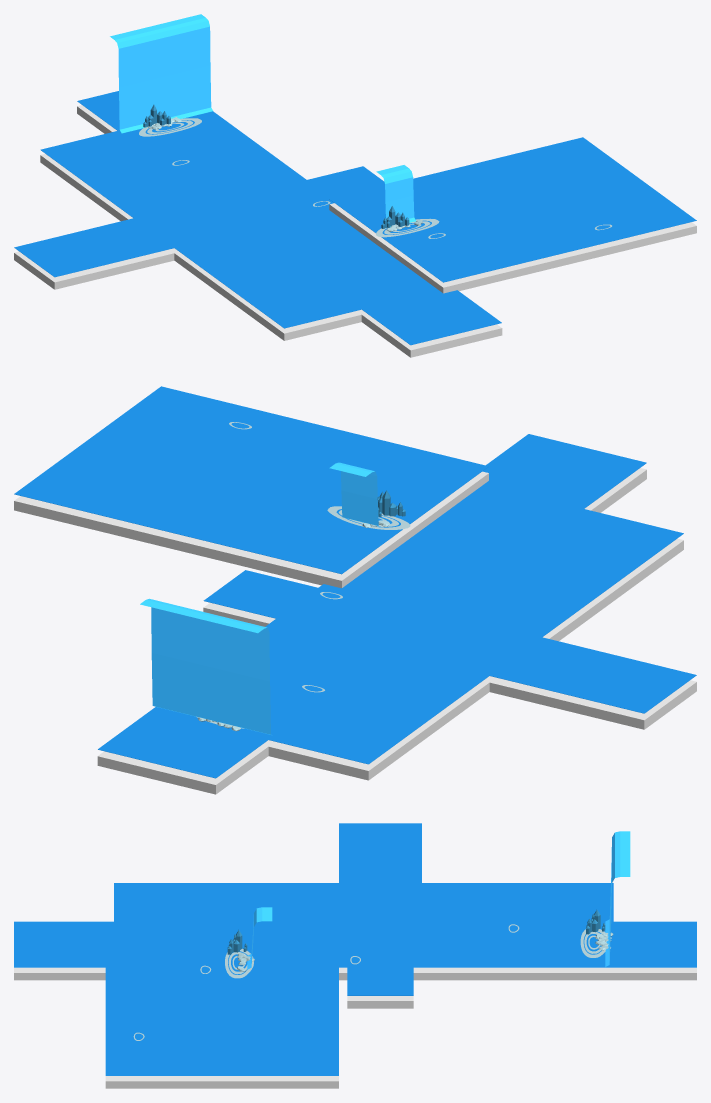
The model's file is water.glb.
The picture shows the model from 3 angles, top to bottom: view 1: azimuth 30°, elevation 25°; view 2: azimuth 150°, elevation 25°; view 3: azimuth 270°, elevation 25°; orthographic projection. The views are drawn at different scales.
Parts seen in each view (by area): view 1: water_Mine_Water, water_Mine_Rock, water_Mine_Fall, water_Mine_Ripple, water_G04_crystal; view 2: water_Mine_Water, water_Mine_Rock, water_Mine_Fall, water_Mine_Ripple; view 3: water_Mine_Water, water_Mine_Rock, water_Mine_Fall, water_Mine_Ripple, water_G04_crystal.
Part boxes in pixels (x1=…): water_Mine_Water: x1=14, y1=91, x2=696, y2=345; water_Mine_Rock: x1=14, y1=105, x2=696, y2=357; water_Mine_Fall: x1=110, y1=14, x2=415, y2=227; water_Mine_Ripple: x1=139, y1=118, x2=611, y2=238; water_G04_crystal: x1=143, y1=104, x2=409, y2=228; water_Mine_Water: x1=14, y1=386, x2=696, y2=778; water_Mine_Rock: x1=14, y1=468, x2=696, y2=794; water_Mine_Fall: x1=140, y1=462, x2=378, y2=734; water_Mine_Ripple: x1=196, y1=422, x2=410, y2=728; water_Mine_Water: x1=14, y1=823, x2=696, y2=1075; water_Mine_Rock: x1=14, y1=967, x2=696, y2=1088; water_Mine_Fall: x1=247, y1=831, x2=630, y2=969; water_Mine_Ripple: x1=133, y1=924, x2=605, y2=1040; water_G04_crystal: x1=227, y1=910, x2=605, y2=954.
Size of the model in its own units: 75 by 13.7 by 82.
